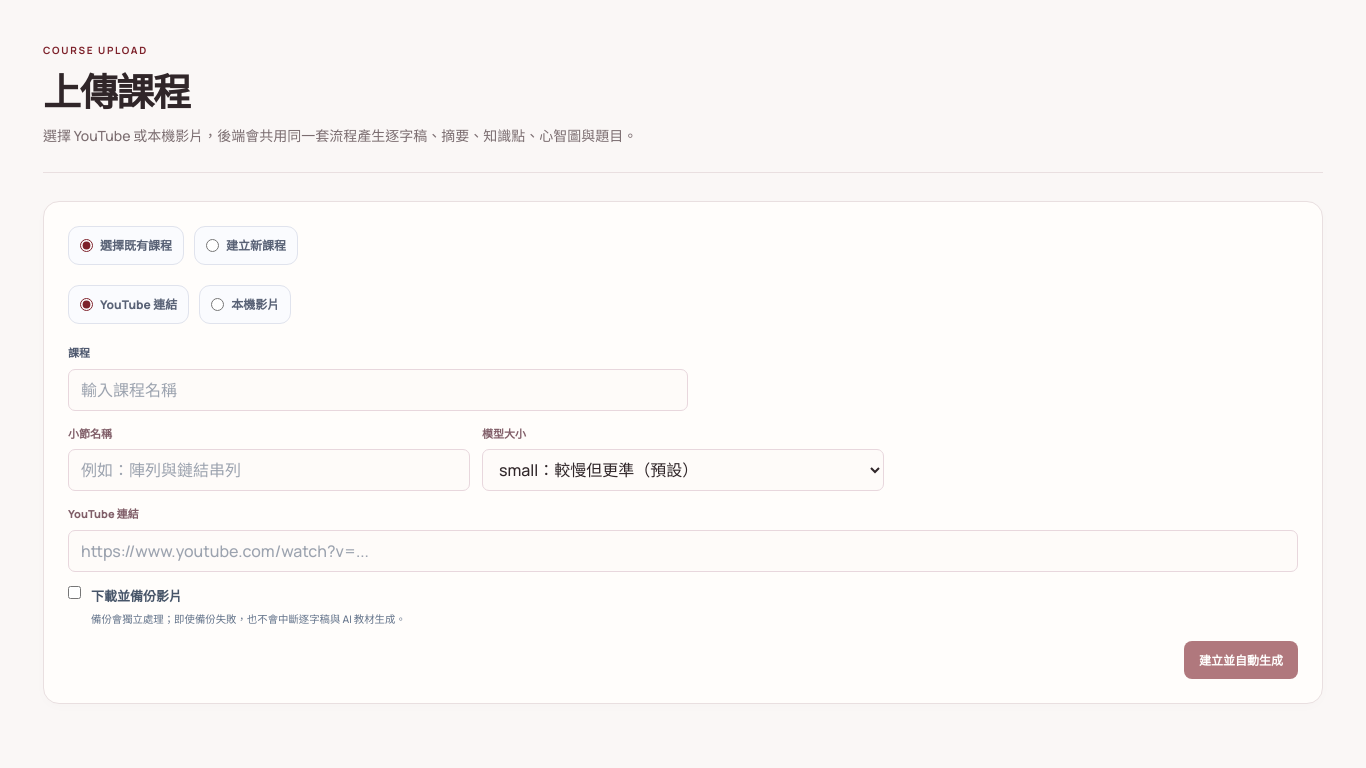
Test: asks before overwriting a duplicate video and reuses the existing lecture
Focus the dropdown labelled "課程": (378, 390) top-left (68, 369), bottom-right (688, 411)
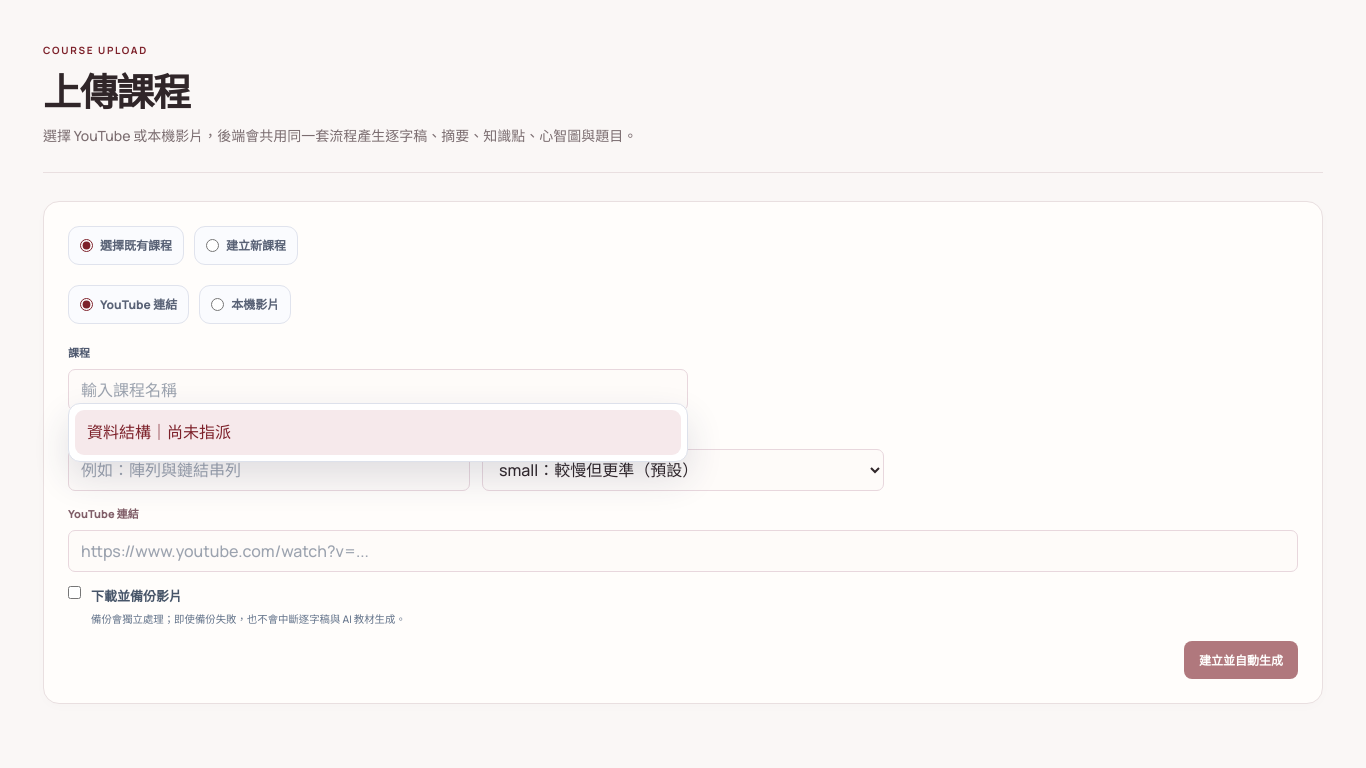
Click the option "資料結構｜尚未指派": (159, 432) top-left (75, 410), bottom-right (681, 455)
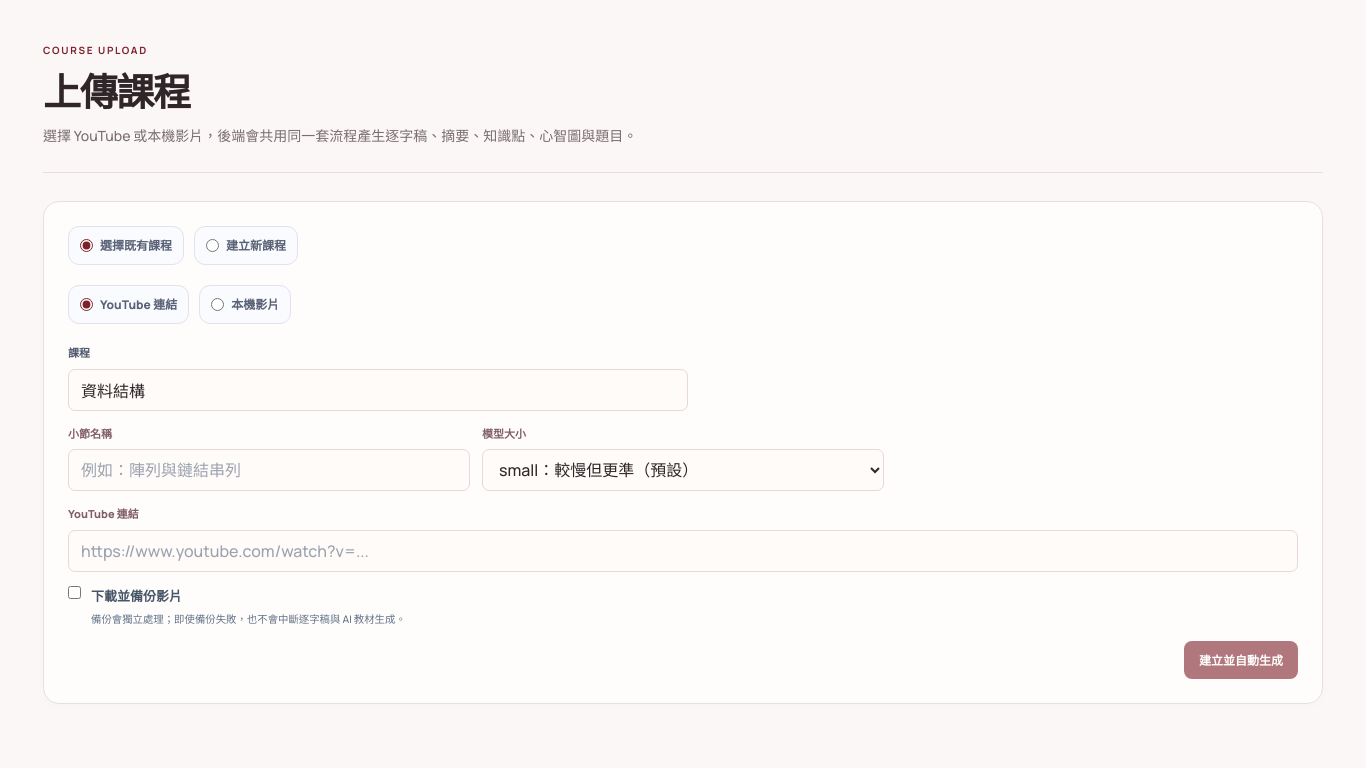
In the field labelled "小節名稱": (269, 470) top-left (68, 449), bottom-right (470, 491), type "新小節名稱"
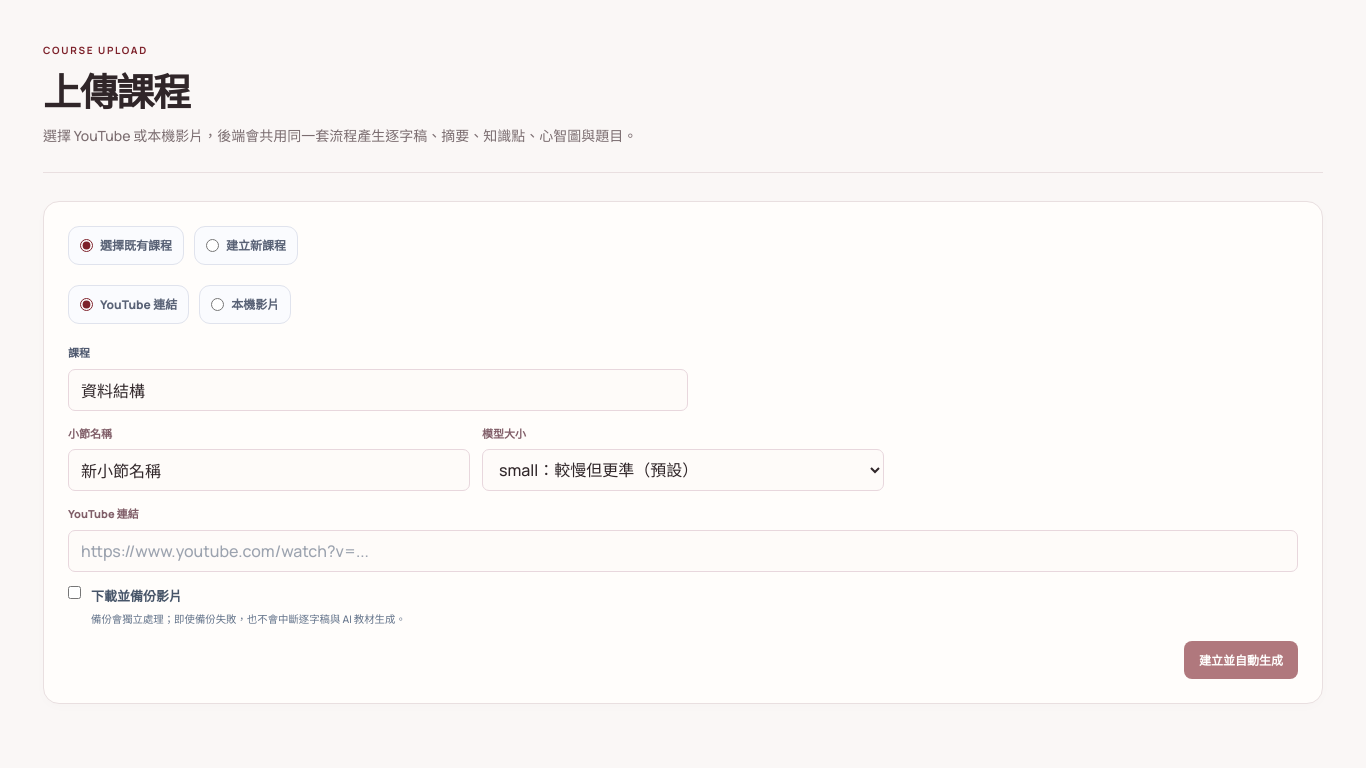
In the field labelled "YouTube 連結": (683, 551) top-left (68, 530), bottom-right (1298, 572), type "https://youtu.be/BUTSrY9K01c"
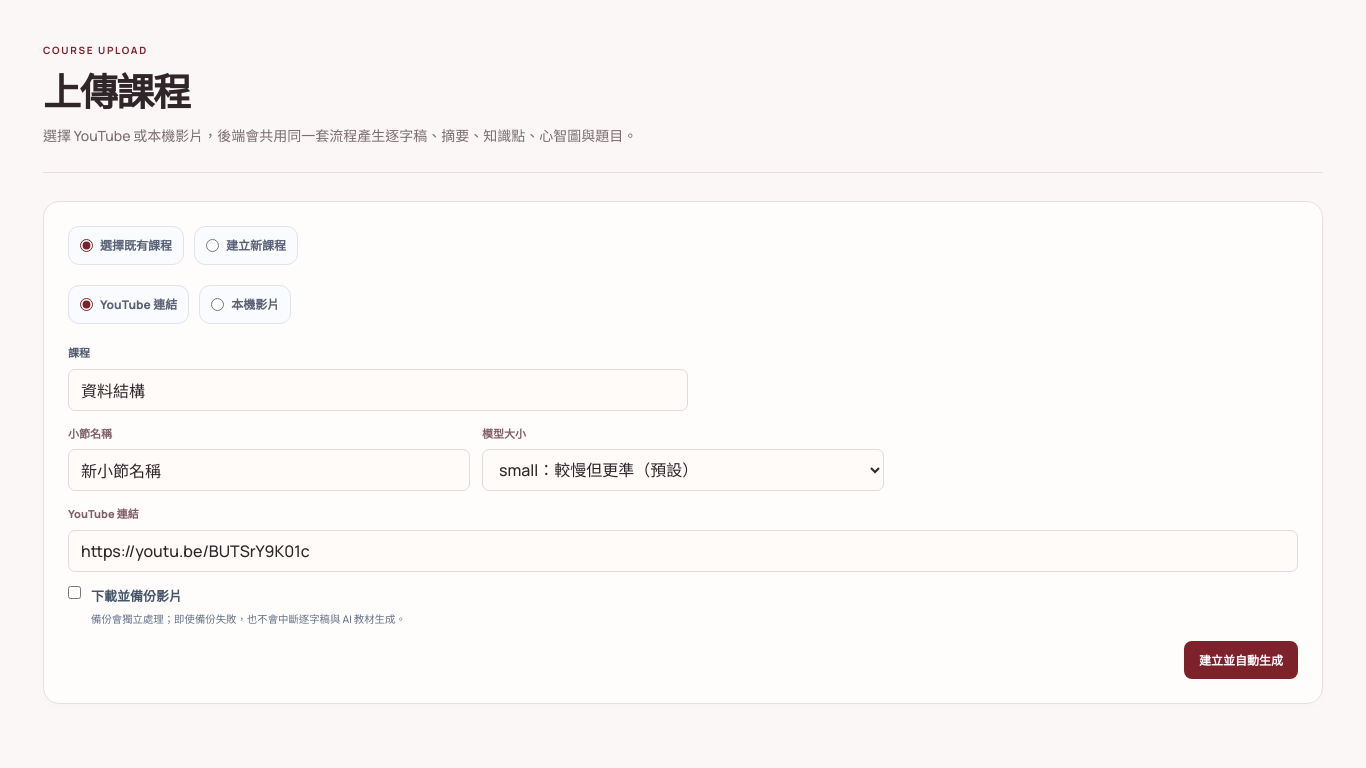
Click the button "建立並自動生成": (1241, 660) top-left (1184, 641), bottom-right (1298, 679)
(page scrolled)
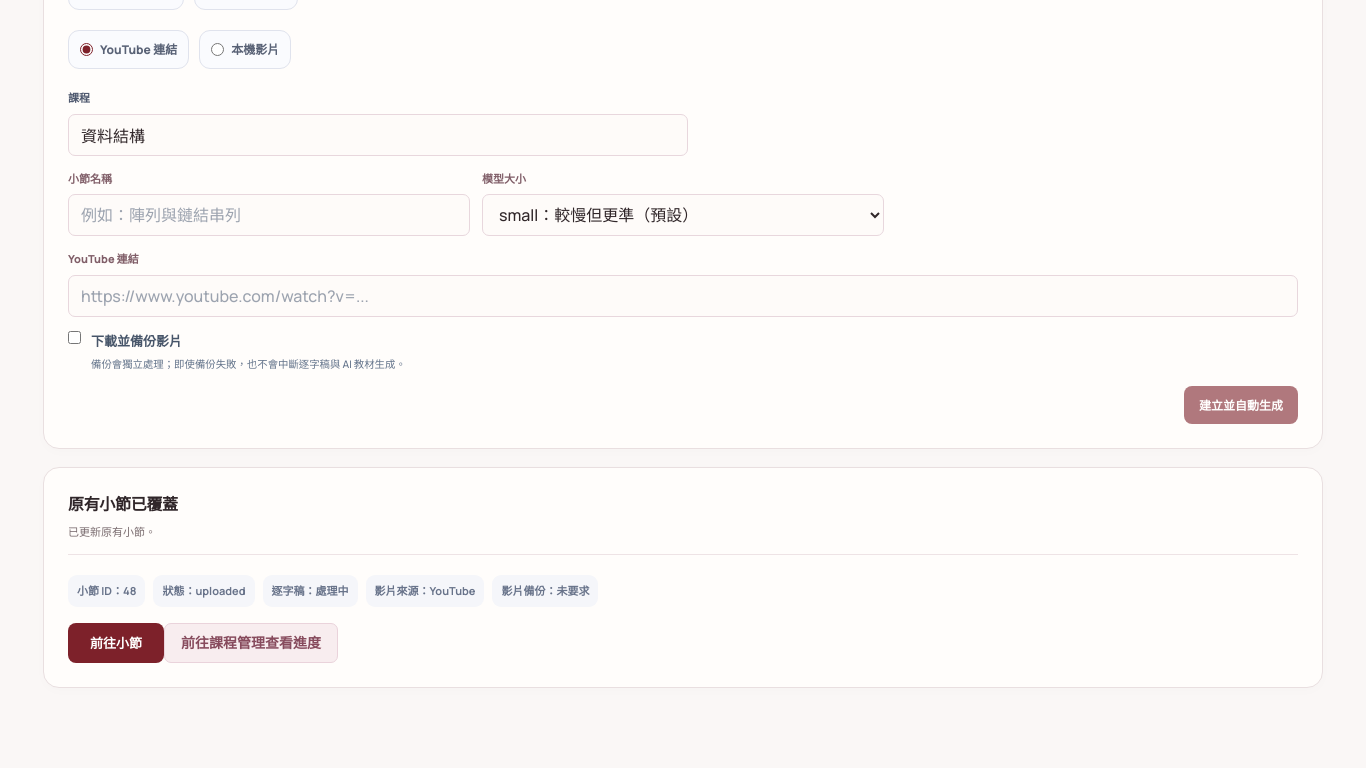
Expected: the heading "原有小節已覆蓋" is shown, top-left (68, 492), bottom-right (178, 518)
